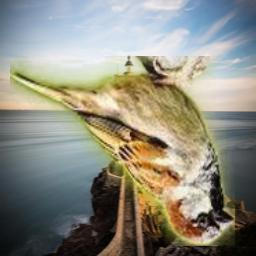Sparrow: (10, 56, 235, 246)
